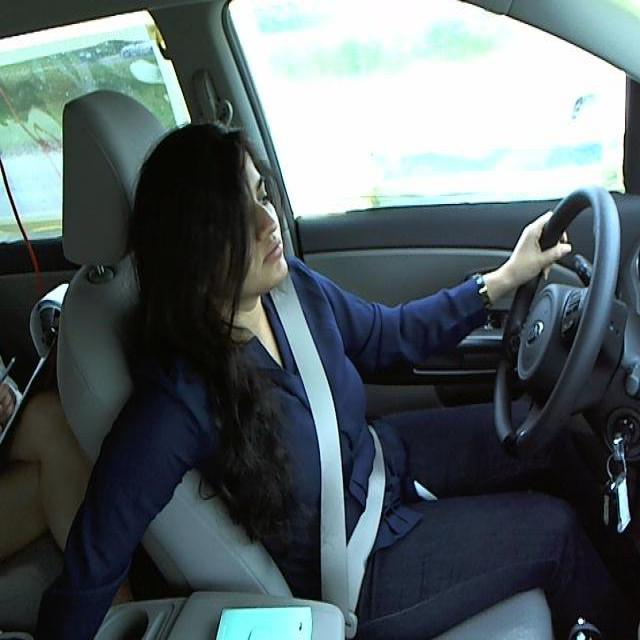seatbelt: (265, 299, 386, 600)
